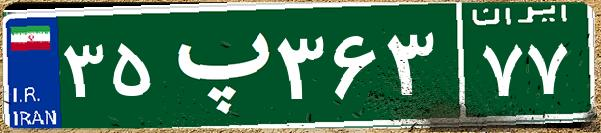3: (385, 28, 445, 110), (273, 28, 330, 110), (57, 26, 110, 107)
5: (110, 28, 158, 105)
6: (330, 28, 385, 110)
7: (475, 38, 525, 113), (525, 38, 570, 115)
پ: (158, 15, 273, 115)
